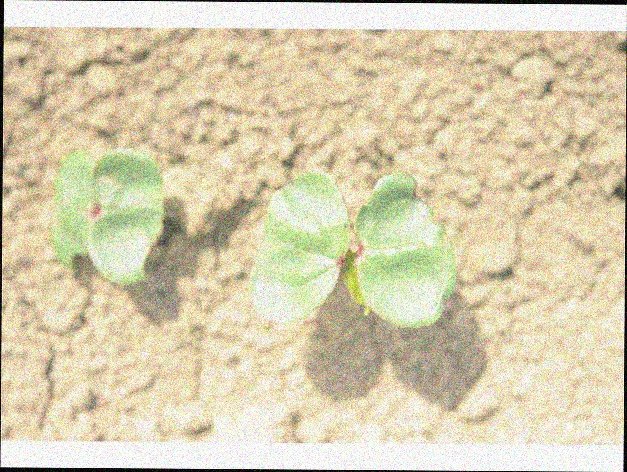cotton: (251, 167, 458, 324), (50, 147, 166, 286)
